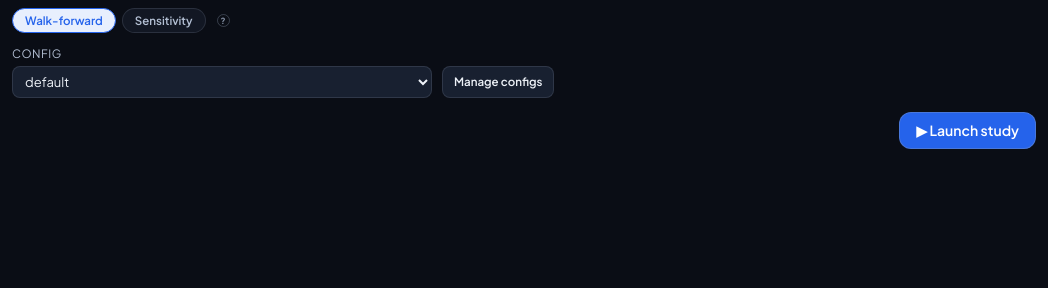
Test: StartStudyCard › shows the animated status panel for the launched study
Click the button "▶ Launch study" at point(968, 130), box [899,112,1036,148]
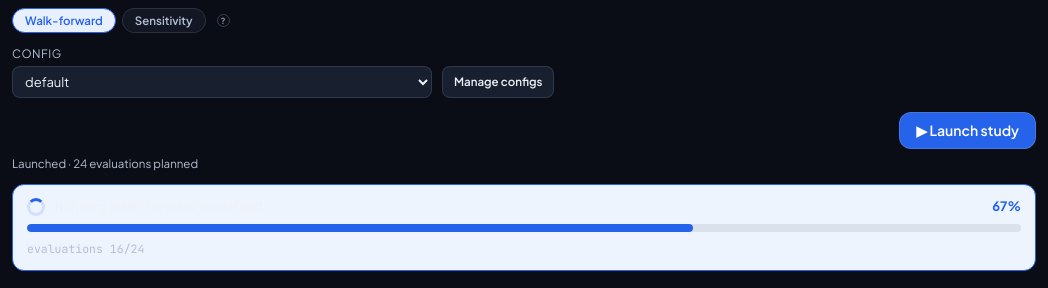
Expected: the element with test id "study-status-panel" shows "16/24", [12,184,1036,271]
Expected: the element with test id "study-status-panel" shows "67%", [992,198,1021,214]
Expected: the element with test id "study-spinner" is shown, [27,198,45,216]
